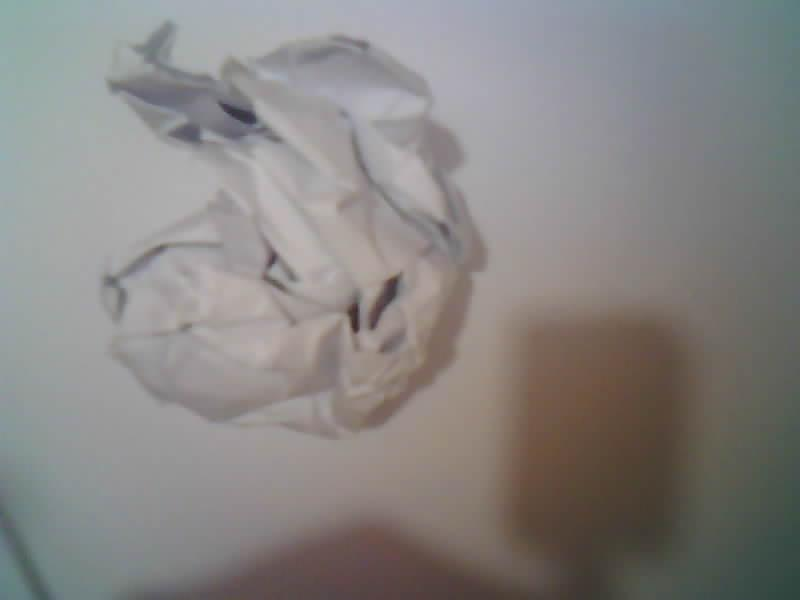biodegradable: (100, 23, 470, 436)
